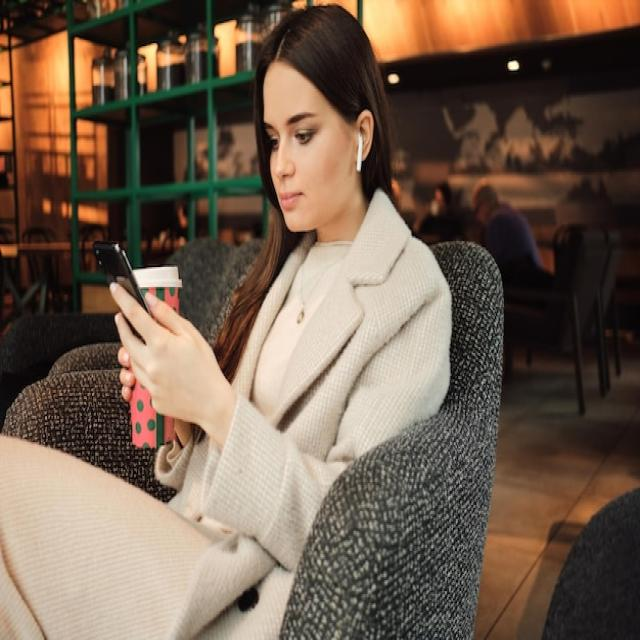airpods: (354, 130, 364, 174)
